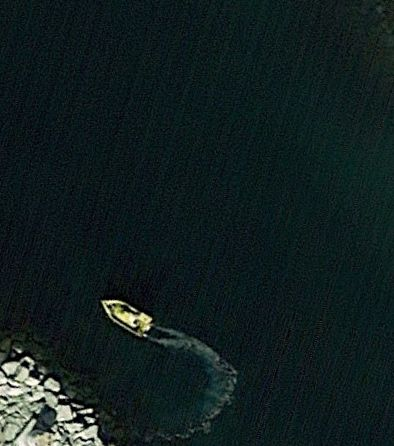boat: (97, 298, 158, 342)
